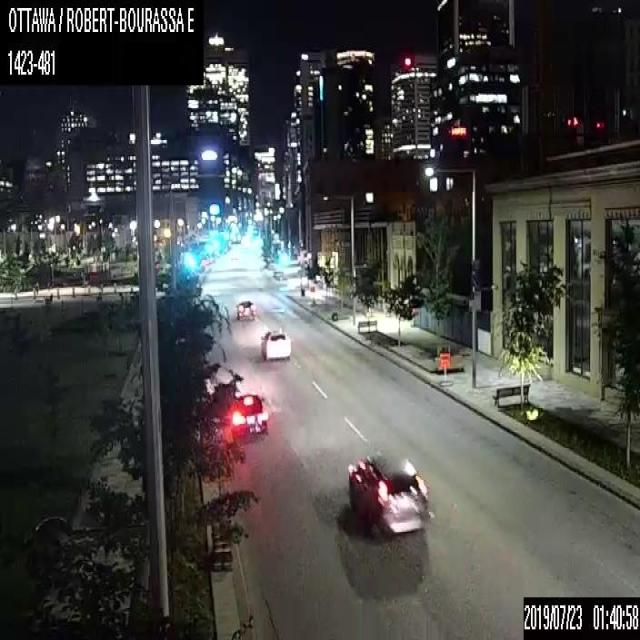construction: (200, 422, 234, 570), (438, 351, 450, 384)
vehicle: (346, 452, 426, 533), (229, 392, 267, 441), (260, 327, 291, 360), (234, 296, 254, 320)
